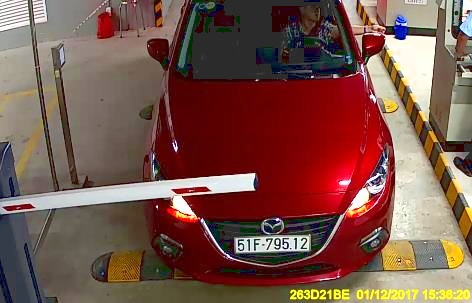plate: (230, 234, 309, 254)
